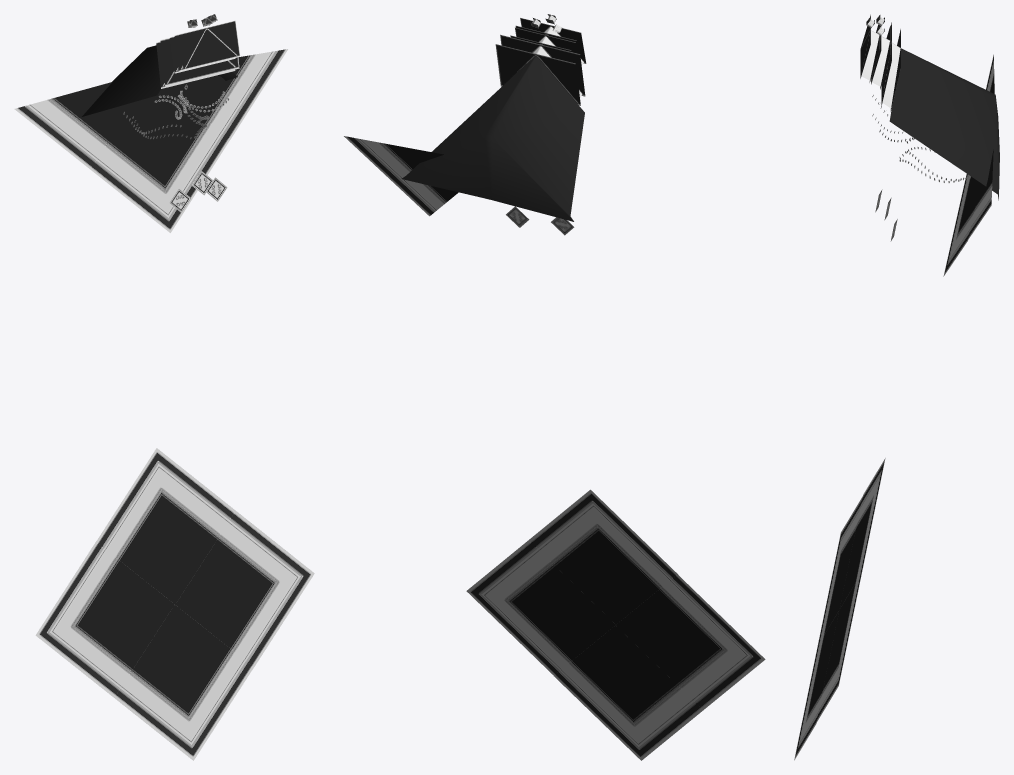
The picture shows the model from 3 angles, left to right: view 1: azimuth 30°, elevation 25°; view 2: azimuth 150°, elevation 25°; view 3: azimuth 270°, elevation 25°; orthographic projection. The views are drawn at different scales.
Parts seen in each view (by area): view 1: bordo_01.1 (×2), bordo_01 (×2), bordo_01.3 (×2), bordo_01.2, nero, topgrande2, topgrande2.4; view 2: nero, bordo_01.3 (×2), bordo_01, bordo_01.1, bordo_01.2, topgrande2.5, topgrande2.4; view 3: nero, bordo_01.1 (×2), bordo_01.3 (×2), bordo_01.2, bordo_01, no_alpha.2, no_alpha.1, no_alpha.
Boxes of the visible parts, box(x1,y1,x2,y2) form: bordo_01.1 (×2): box(90, 88, 253, 760); bordo_01 (×2): box(14, 82, 174, 697); bordo_01.3 (×2): box(166, 49, 314, 666); bordo_01.2: box(96, 448, 235, 604); nero: box(82, 45, 237, 116); topgrande2: box(179, 20, 240, 70); topgrande2.4: box(160, 38, 239, 86); nero: box(401, 56, 584, 221); bordo_01.3 (×2): box(344, 136, 615, 675); bordo_01: box(615, 574, 765, 709); bordo_01.1: box(554, 625, 703, 760); bordo_01.2: box(529, 489, 677, 624); topgrande2.5: box(495, 44, 580, 105); topgrande2.4: box(500, 34, 585, 96); nero: box(889, 48, 999, 200); bordo_01.1 (×2): box(794, 174, 980, 760); bordo_01.3 (×2): box(816, 149, 993, 722); bordo_01.2: box(839, 458, 885, 608); bordo_01: box(817, 497, 862, 645); no_alpha.2: box(882, 42, 900, 108); no_alpha.1: box(872, 36, 889, 86); no_alpha: box(861, 30, 879, 80).
Bounding box in the file's own units: 1738 × 3637 × 883.
10 materials, 8 textured.
